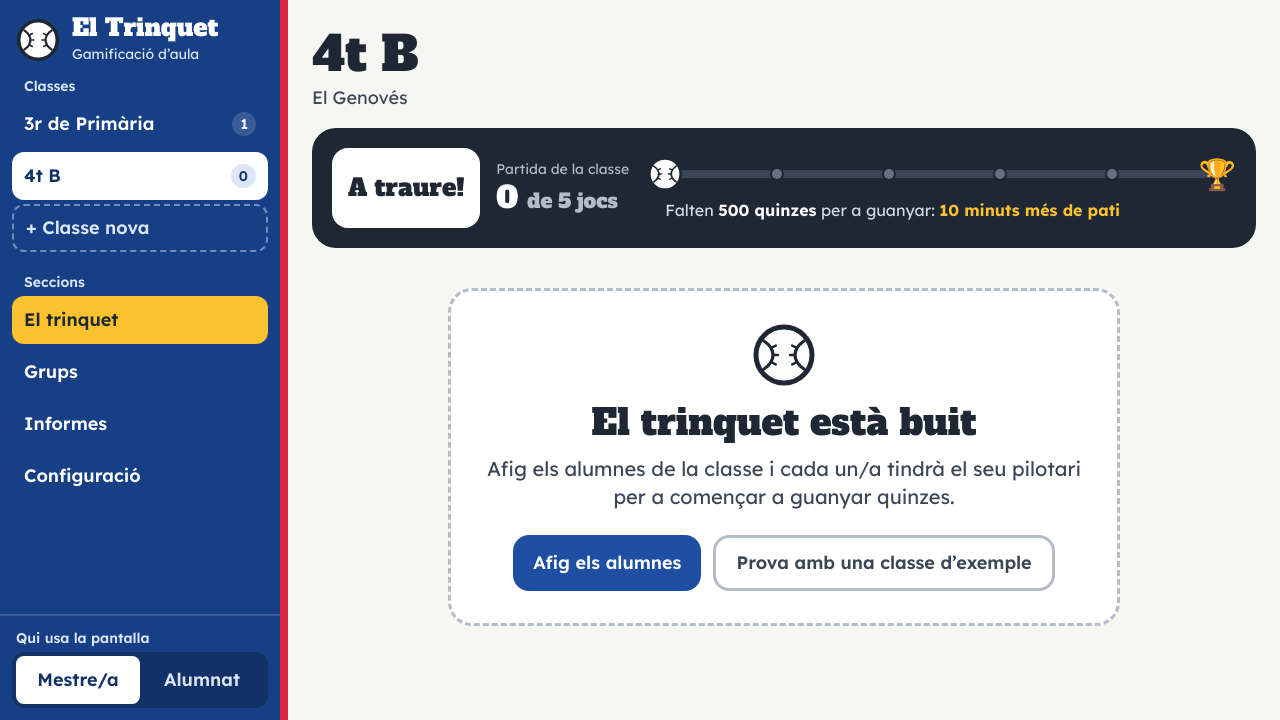
Test: diverses classes › a Configuració es canvia el nom de la classe i es pot esborrar, però no l’última
Click the button "Configuració": {"x": 140, "y": 476} [12,452,268,500]
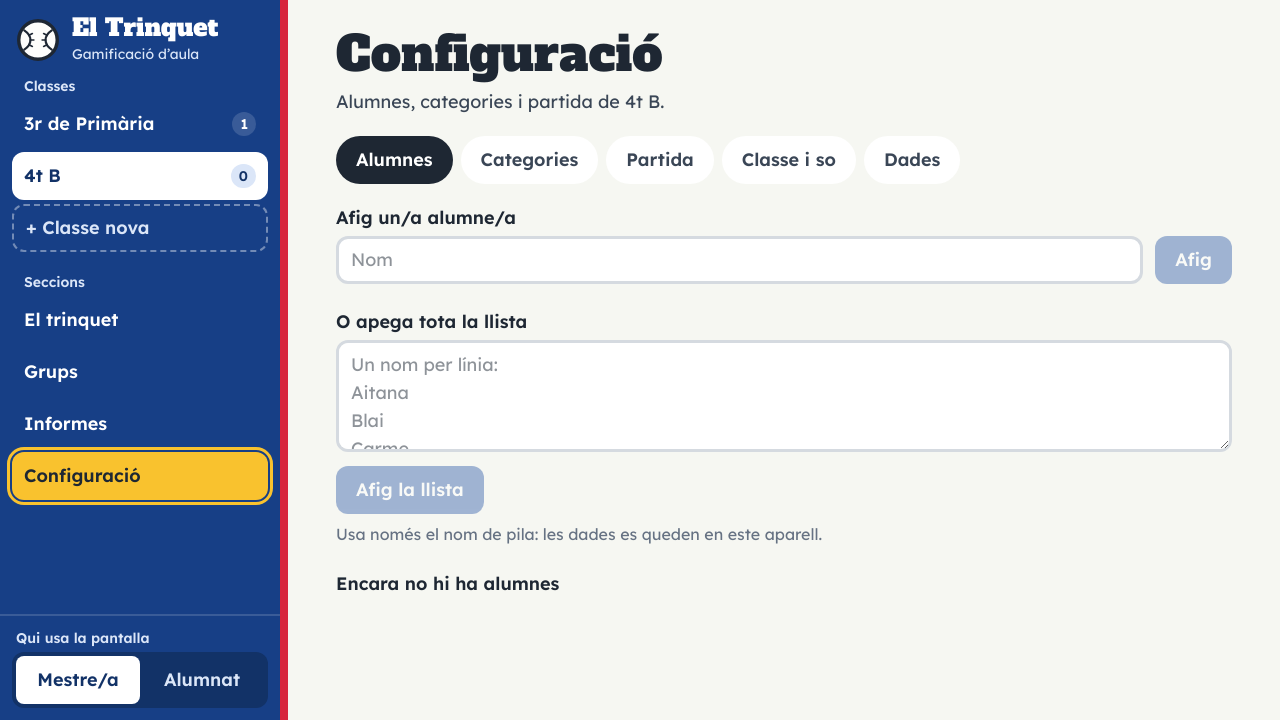
Click the tab "Classe i so": {"x": 789, "y": 160} [722,136,856,184]
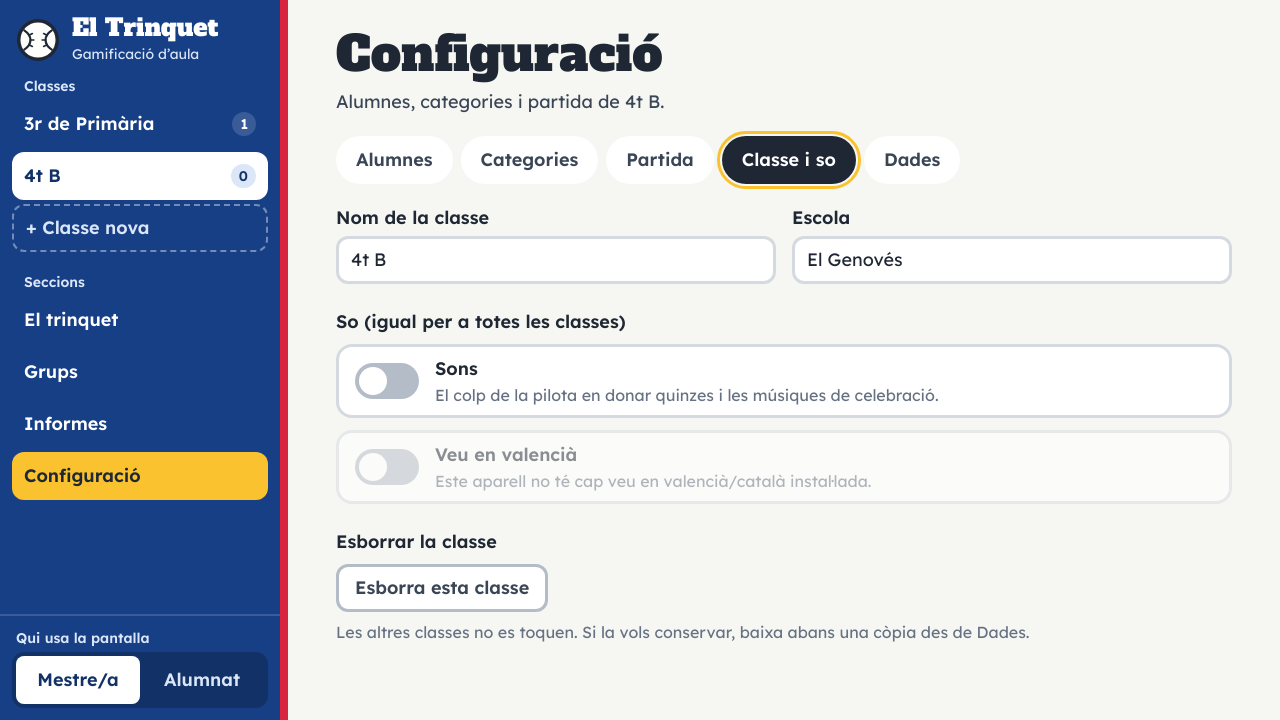
In the field labelled "Nom de la classe": {"x": 556, "y": 260} [336,236,776,284], type "!"
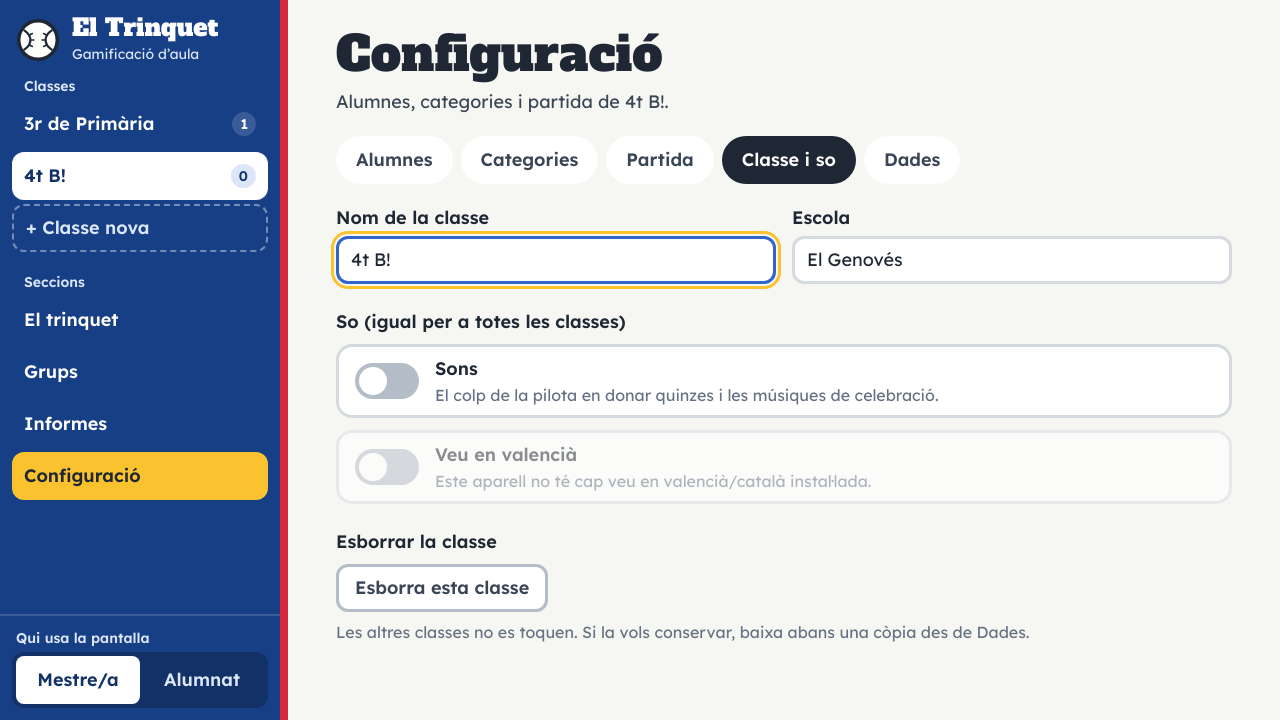
Now the button "4t B! 0" is shown, box [12,152,268,200]
Click the button "Esborra esta classe": {"x": 442, "y": 588} [336,564,548,612]
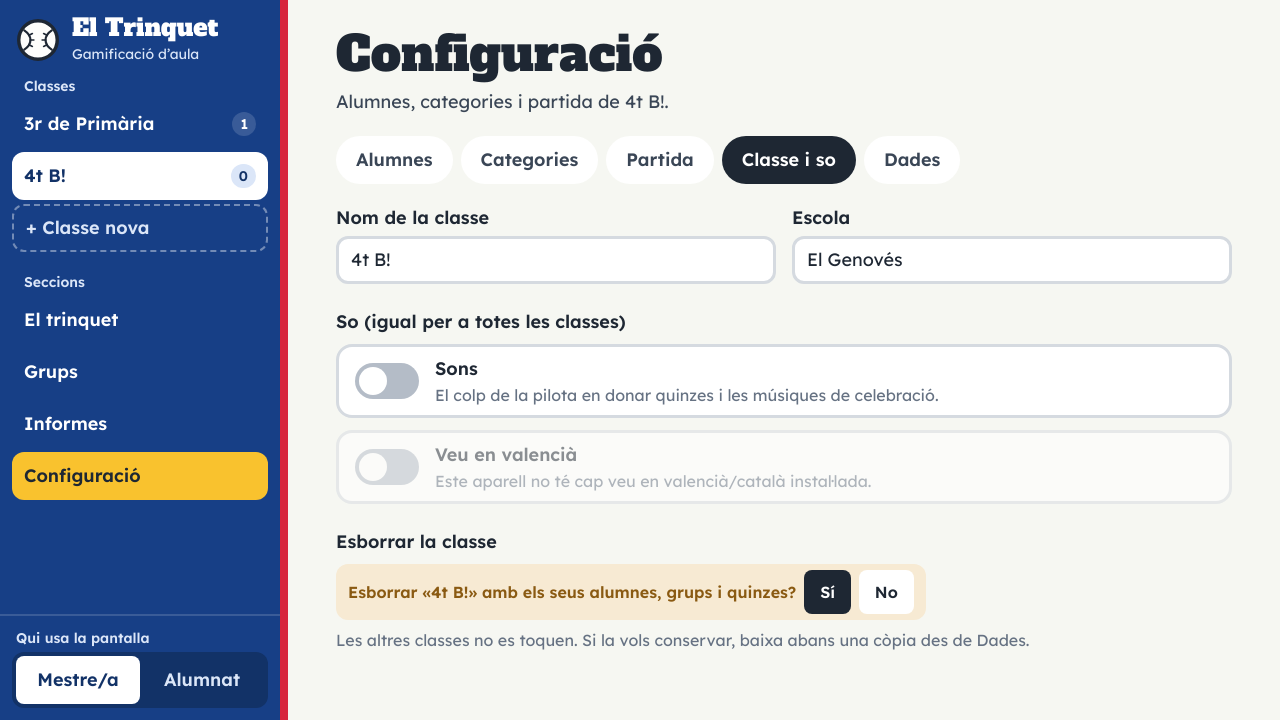
Click the button "Sí": {"x": 828, "y": 592} [804,570,851,614]
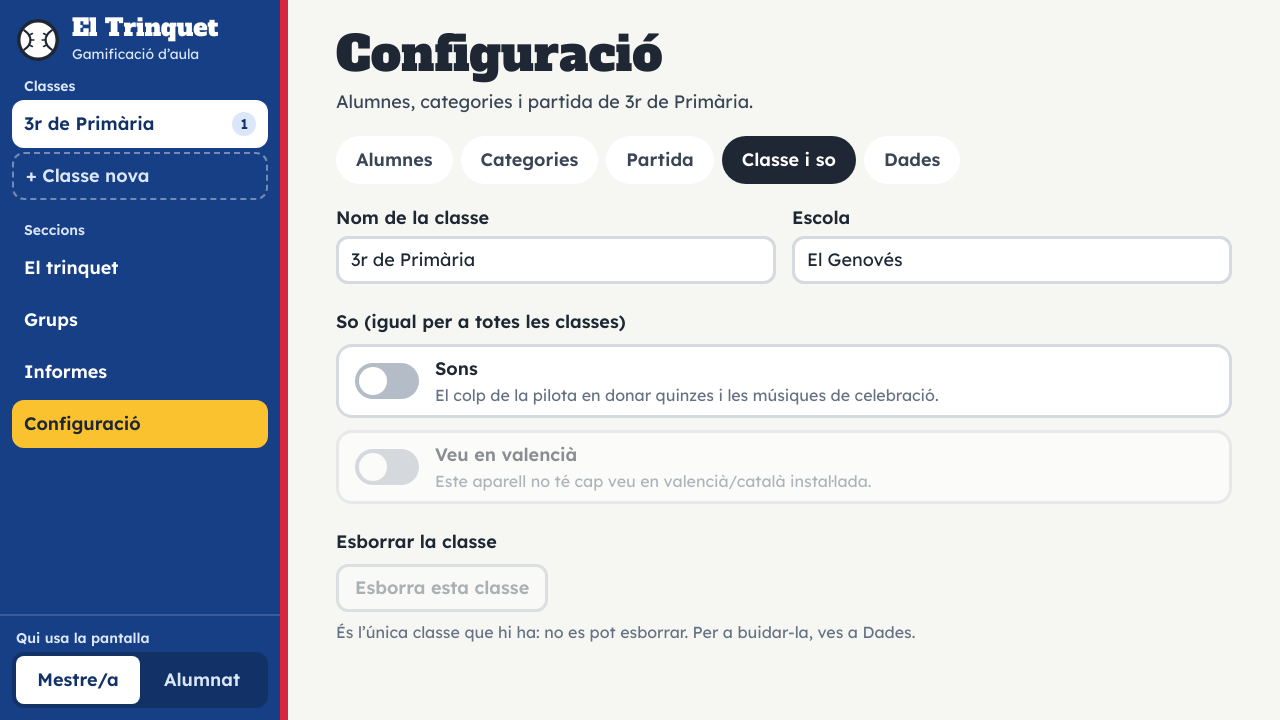
Now the button "Esborra esta classe" is disabled, box [336,564,548,612]
